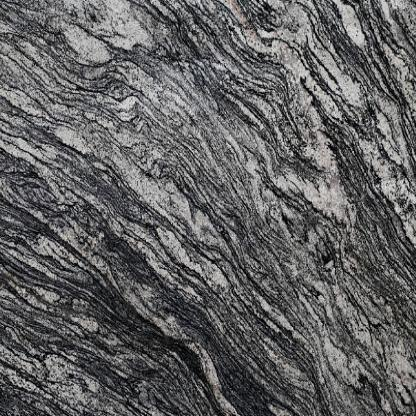Sedimentary_Sandstone: (2, 3, 416, 415)
